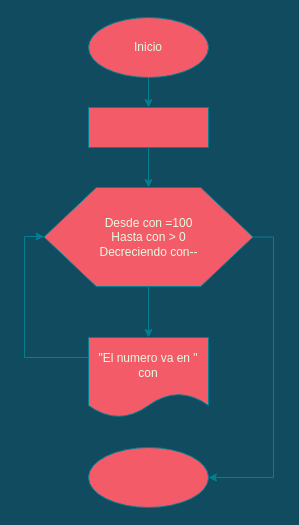
The diagram is 299 pixels wide and 525 high, and some of its shapes have lost their labels. The shapes that lost their labels are listed below. From the top down, each one's centre as x and y in pixels, then its label:
the point at 148,127: con : Entero
the point at 148,477: Fin
